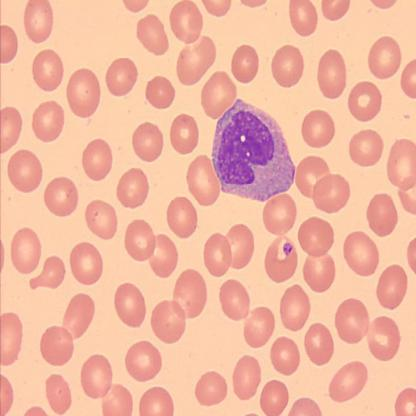Monocyte: (211, 96, 297, 204)
